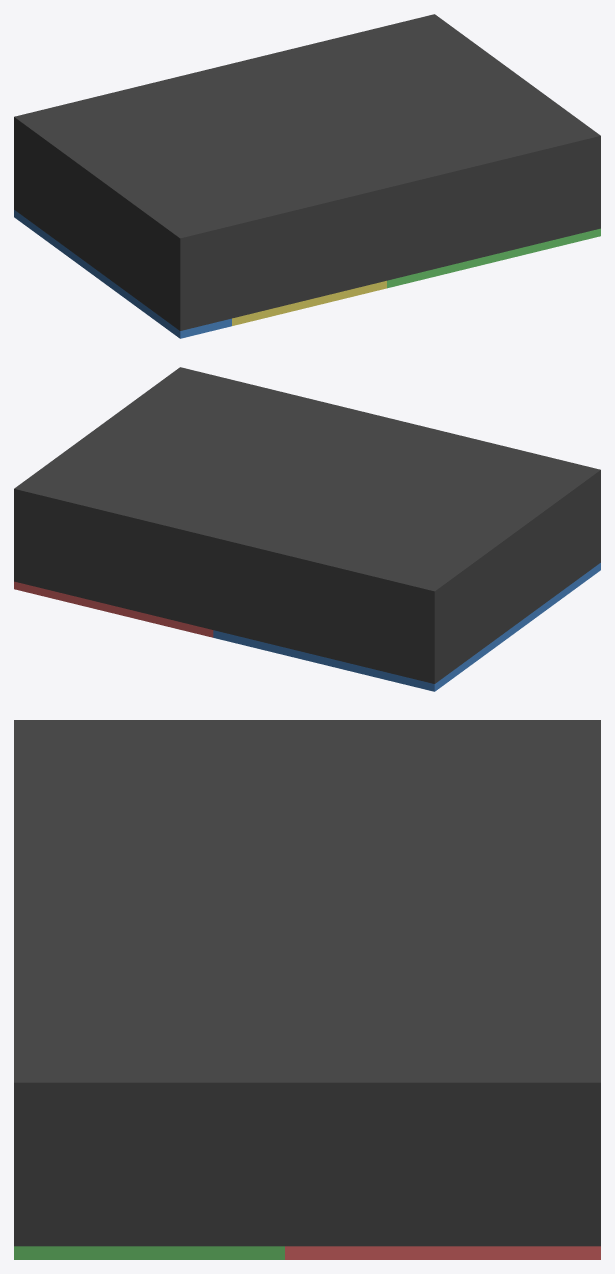
Rendered from Stage_Color.fbx.
The picture shows the model from 3 angles, top to bottom: view 1: azimuth 30°, elevation 25°; view 2: azimuth 150°, elevation 25°; view 3: azimuth 270°, elevation 25°; orthographic projection. The views are drawn at different scales.
Parts seen in each view (by area): view 1: F2_Top, W_84, W_81, pCube13, pCube7, pCube8; view 2: F2_Top, W_83, W_81, pCube13, pCube4; view 3: F2_Top, W_82, pCube4, pCube7, W_83, W_84.
Part boxes in pixels (left/top/right/bottom): F2_Top: left=14, top=14, right=600, bottom=245; W_84: left=176, top=143, right=600, bottom=330; W_81: left=18, top=128, right=175, bottom=327; pCube13: left=14, top=210, right=231, bottom=338; pCube7: left=387, top=228, right=600, bottom=288; pCube8: left=232, top=280, right=386, bottom=325; F2_Top: left=14, top=367, right=600, bottom=598; W_83: left=14, top=496, right=438, bottom=683; W_81: left=439, top=481, right=596, bottom=680; pCube13: left=213, top=563, right=600, bottom=691; pCube4: left=14, top=581, right=213, bottom=637; F2_Top: left=14, top=720, right=600, bottom=1096; W_82: left=29, top=1096, right=585, bottom=1246; pCube4: left=285, top=1246, right=600, bottom=1259; pCube7: left=14, top=1246, right=284, bottom=1259; W_83: left=586, top=1096, right=600, bottom=1246; W_84: left=14, top=1096, right=28, bottom=1246.
Bounding box in the file's own units: 57 × 13 × 39.
